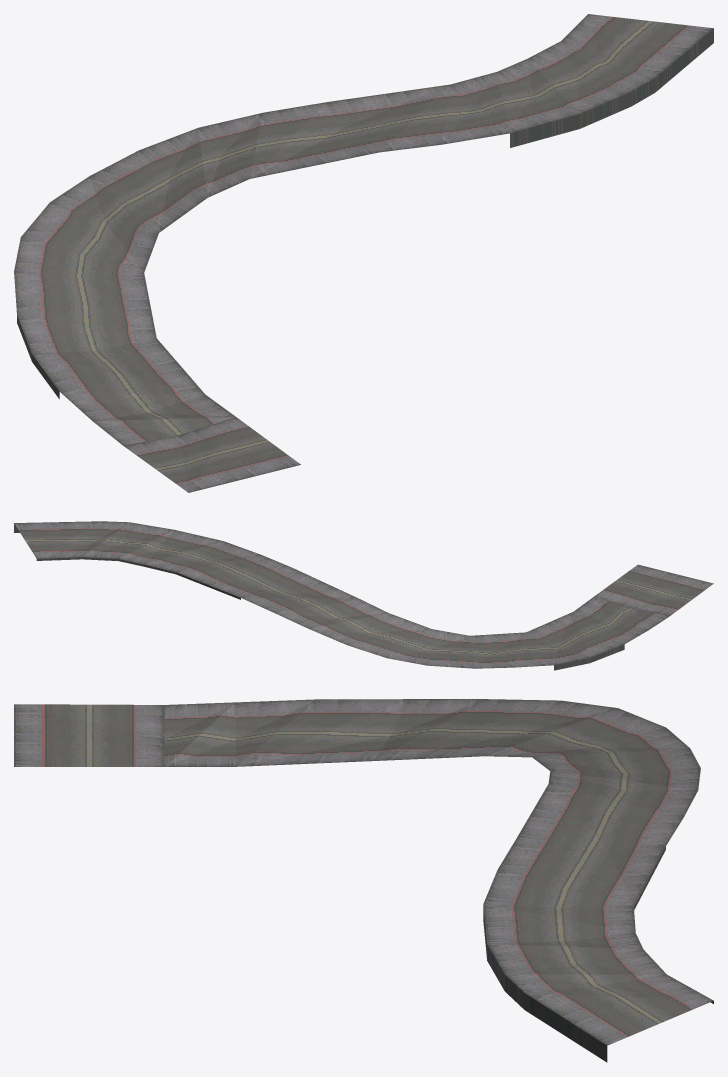
File: lodroadssfse19.obj
3 views of the same model, one above another, from view 1: azimuth 30°, elevation 25°; view 2: azimuth 150°, elevation 25°; view 3: azimuth 270°, elevation 25° (orthographic). The views are drawn at different scales.
Parts seen in each view (by area): view 1: LODroadsSFSE19; view 2: LODroadsSFSE19; view 3: LODroadsSFSE19.
Boxes of the visible parts, x1,y1,x2,y2 form: LODroadsSFSE19: (14, 14, 713, 492); LODroadsSFSE19: (14, 521, 713, 670); LODroadsSFSE19: (14, 699, 713, 1062).
Bounding box in the file's own units: 173 × 19.03 × 116.
Materials: 1 (1 with a texture image).
